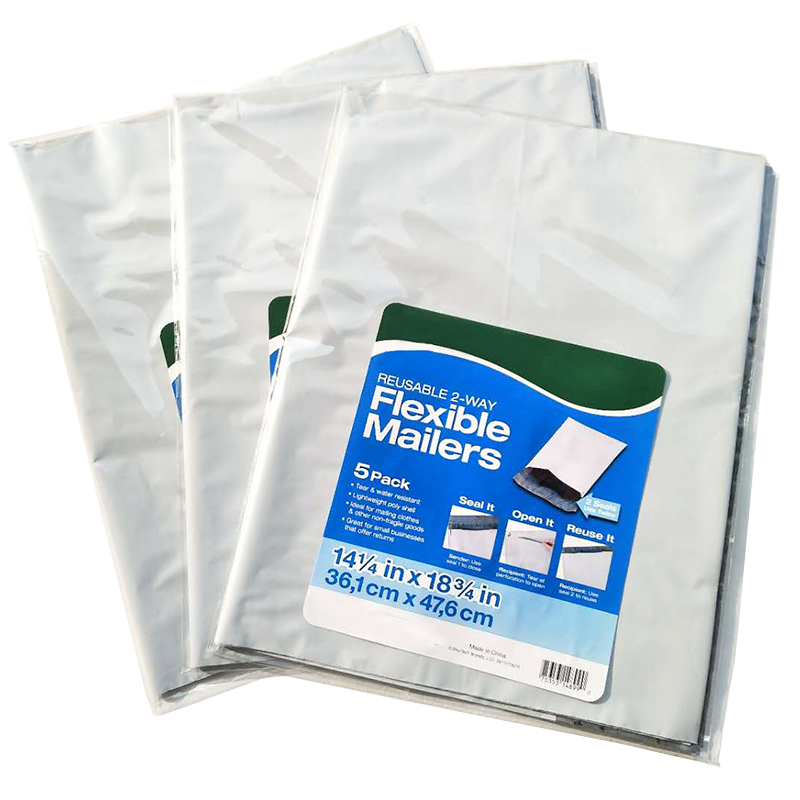Parcel: (220, 87, 762, 743), (16, 35, 428, 693), (177, 70, 603, 662)
